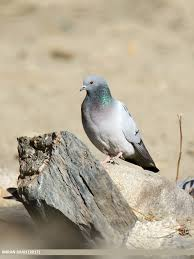pigeon: (78, 73, 162, 175)
